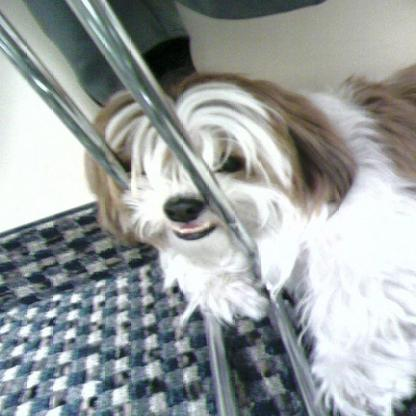dog: (83, 66, 415, 415)
